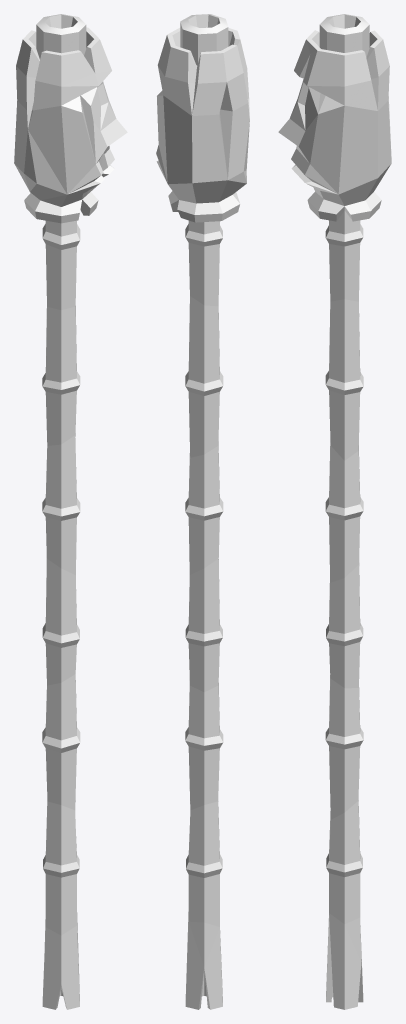
Rendered from SM_Prop_Tiki_Torch_03.glb.
The picture shows the model from 3 angles, left to right: view 1: azimuth 90°, elevation 25°; view 2: azimuth 210°, elevation 25°; view 3: azimuth 270°, elevation 25°; orthographic projection.
Visible parts, largest first — view 1: SM_Prop_Tiki_Torch_03; view 2: SM_Prop_Tiki_Torch_03; view 3: SM_Prop_Tiki_Torch_03.
Boxes of the visible parts, <box> form: SM_Prop_Tiki_Torch_03: <box>14,14,127,1009</box>; SM_Prop_Tiki_Torch_03: <box>156,14,249,1009</box>; SM_Prop_Tiki_Torch_03: <box>278,14,391,1009</box>.
Size of the model in its own units: 0.1895 by 2.17 by 0.2282.
1 material, 1 textured.
